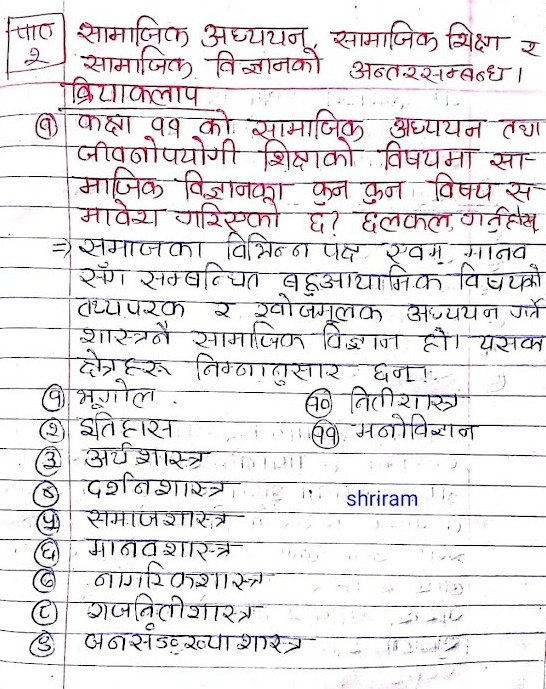text: (76, 622, 311, 657), (185, 348, 355, 387), (80, 592, 263, 628), (88, 561, 269, 594), (280, 263, 449, 297), (74, 136, 248, 167), (82, 470, 235, 505), (59, 75, 208, 107), (345, 57, 512, 85), (254, 292, 383, 327), (76, 534, 246, 560), (247, 106, 367, 142), (189, 320, 307, 356), (171, 168, 294, 202), (75, 13, 193, 48), (137, 261, 262, 294), (331, 18, 441, 55), (78, 507, 246, 531), (255, 136, 361, 174), (80, 45, 196, 79), (76, 232, 207, 262), (352, 413, 481, 443), (81, 442, 213, 470), (201, 49, 328, 78), (344, 384, 472, 412), (70, 164, 166, 201), (76, 346, 174, 382), (352, 206, 455, 240), (174, 199, 283, 231), (200, 19, 308, 51), (71, 292, 186, 322), (219, 227, 311, 263), (374, 140, 479, 171), (77, 408, 174, 441), (311, 321, 405, 355), (76, 197, 165, 231), (456, 258, 543, 292), (387, 113, 485, 143), (78, 321, 176, 349), (77, 379, 158, 412), (457, 203, 540, 235), (401, 301, 502, 327), (443, 18, 509, 54), (426, 170, 496, 203), (467, 328, 545, 355), (459, 238, 531, 264), (76, 259, 128, 293), (383, 239, 446, 267), (67, 112, 135, 136), (497, 112, 545, 145), (318, 238, 374, 265), (356, 178, 406, 206), (305, 178, 351, 208), (366, 362, 420, 386), (198, 108, 233, 140), (488, 147, 528, 173), (10, 22, 57, 44), (417, 327, 452, 356), (148, 113, 184, 140), (502, 178, 536, 205), (509, 297, 545, 321), (207, 295, 239, 321), (305, 207, 330, 236), (515, 38, 546, 60), (311, 424, 338, 448), (22, 45, 52, 65), (305, 394, 332, 415), (39, 539, 58, 563), (39, 512, 59, 533), (37, 567, 54, 591), (36, 116, 55, 137), (41, 449, 59, 470), (37, 633, 53, 655), (36, 483, 55, 501), (46, 388, 62, 406), (38, 603, 53, 622), (46, 422, 61, 440)
